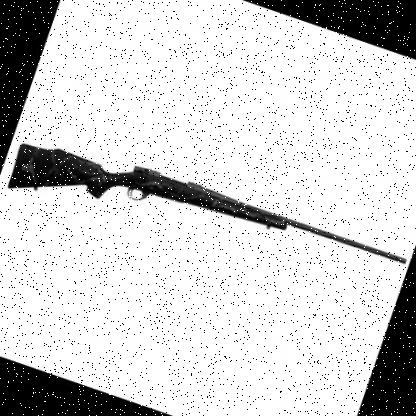rifle: (6, 118, 412, 316)
